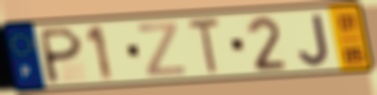1: (83, 23, 116, 83)
2: (244, 14, 290, 72)
J: (296, 13, 332, 68)
P: (40, 24, 85, 86)
T: (186, 16, 223, 76)
Z: (136, 20, 188, 78)
